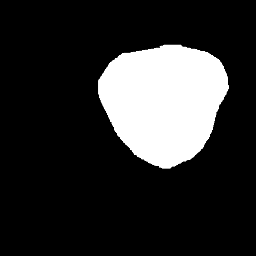mass: (99, 37, 229, 166)
